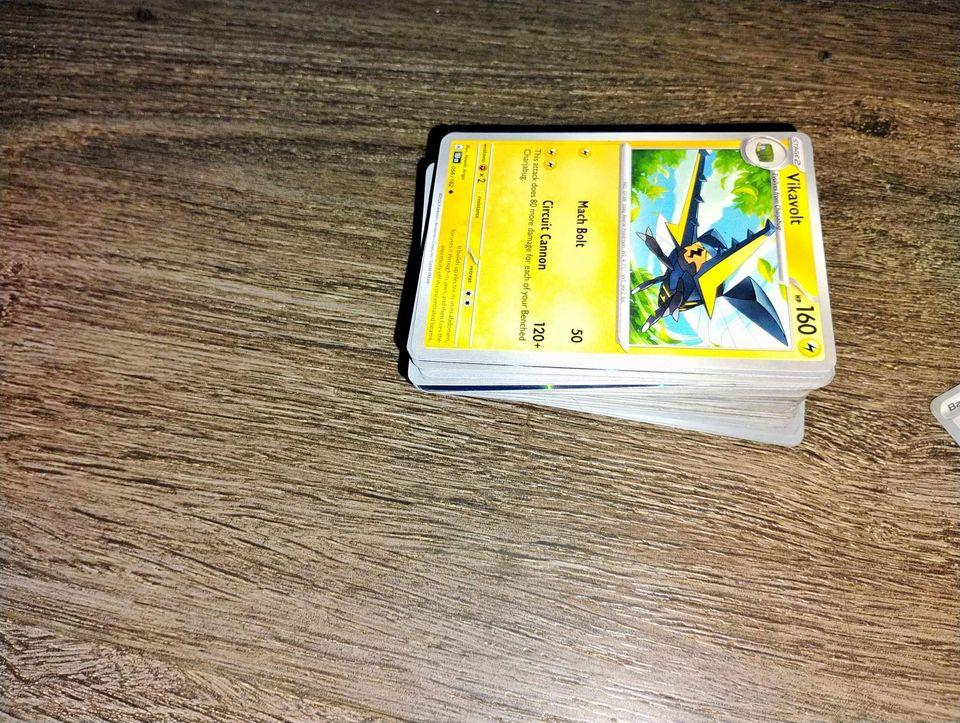card: (410, 131, 839, 372)
